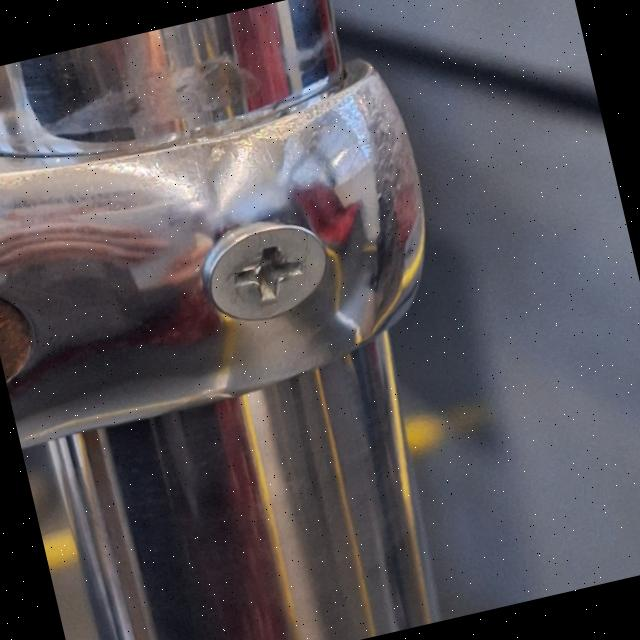Phillips: (192, 209, 334, 332)
